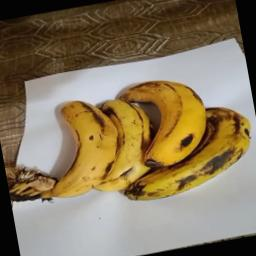Banana Unripe: (118, 70, 218, 176), (44, 90, 128, 202), (91, 85, 169, 197)
